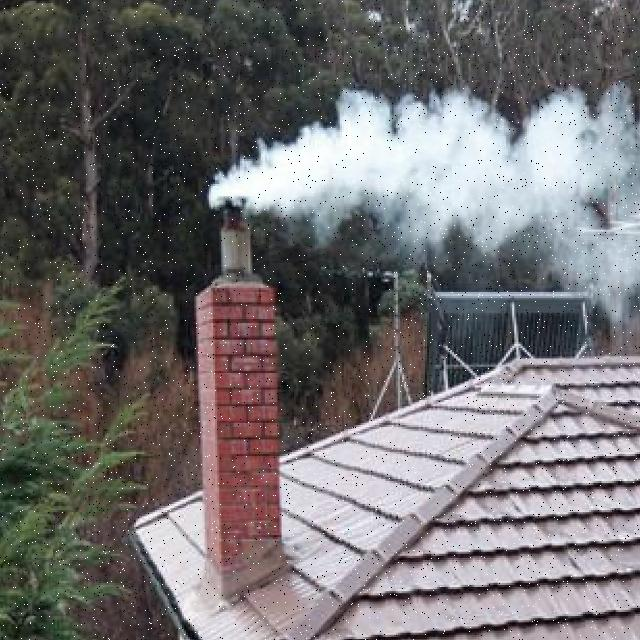smoke: (198, 76, 640, 294)
